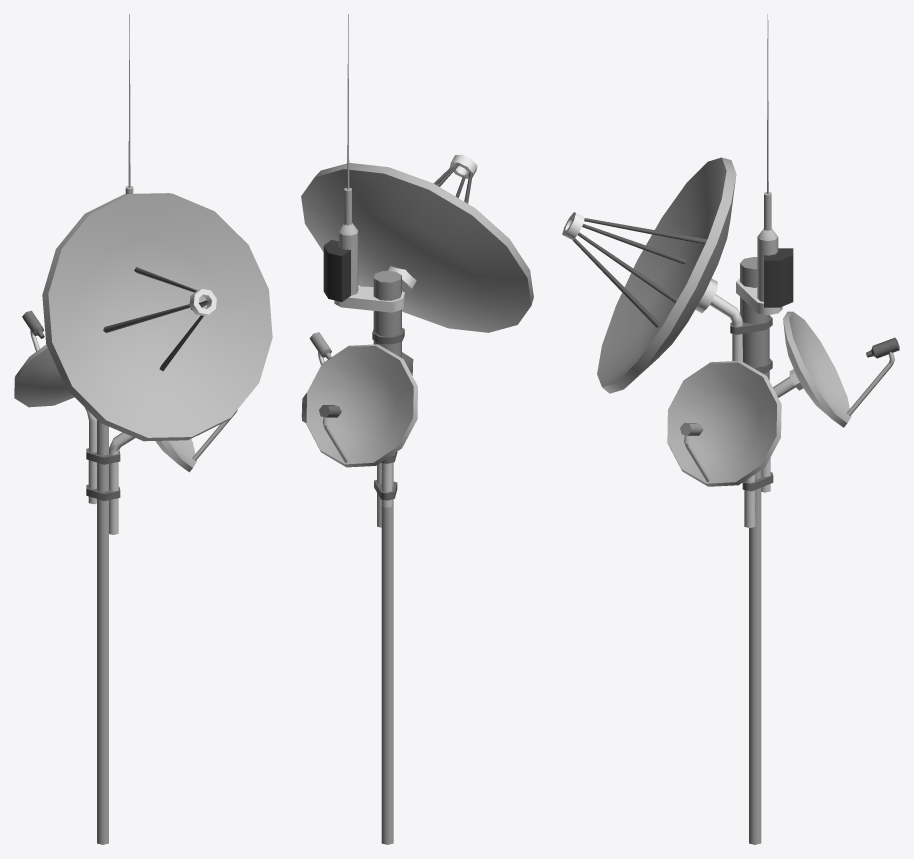
Rendered from antenna_002.fbx.
The picture shows the model from 3 angles, left to right: view 1: azimuth 30°, elevation 25°; view 2: azimuth 150°, elevation 25°; view 3: azimuth 270°, elevation 25°; orthographic projection. The views are drawn at different scales.
Parts seen in each view (by area): view 1: antenna_002; view 2: antenna_002; view 3: antenna_002.
Part boxes in pixels (<box>): antenna_002: <box>14,14,272,844</box>; antenna_002: <box>301,14,533,844</box>; antenna_002: <box>562,14,899,844</box>.
Size of the model in its own units: 743 by 952 by 2627.
